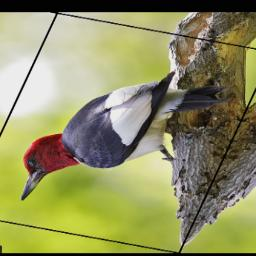Woodpecker: (6, 53, 237, 226)
